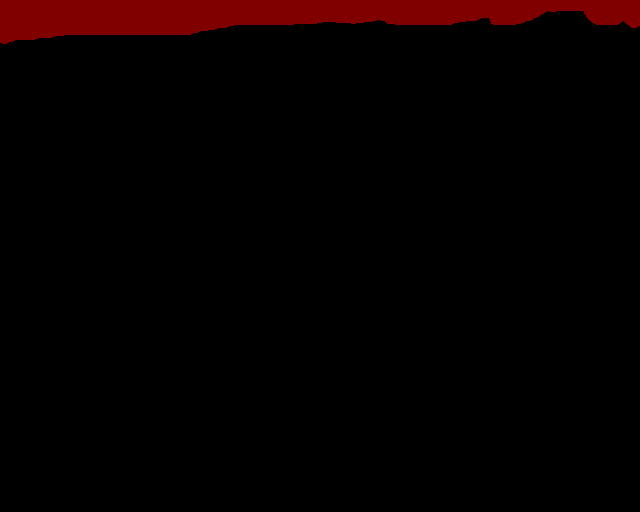Sky: (1, 1, 639, 44)
